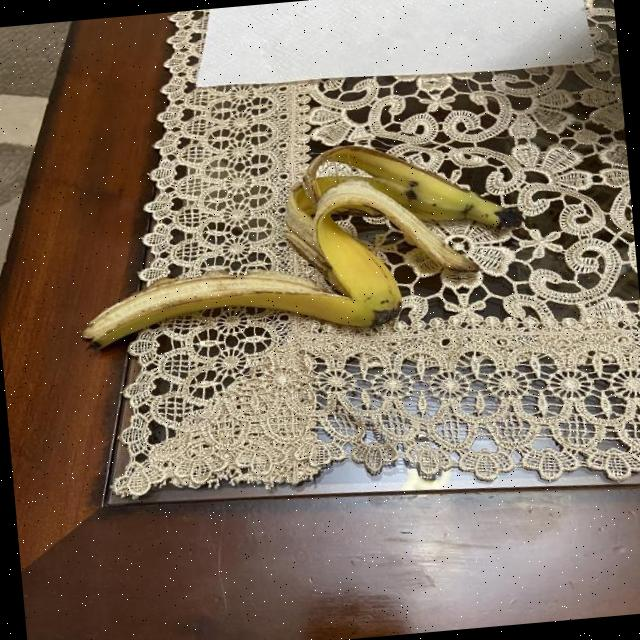banana-peel: (64, 129, 520, 355), (299, 130, 511, 246)
